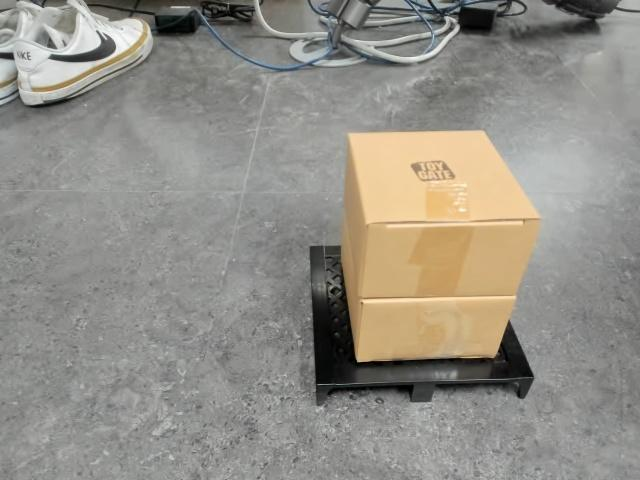box: (309, 127, 544, 408)
